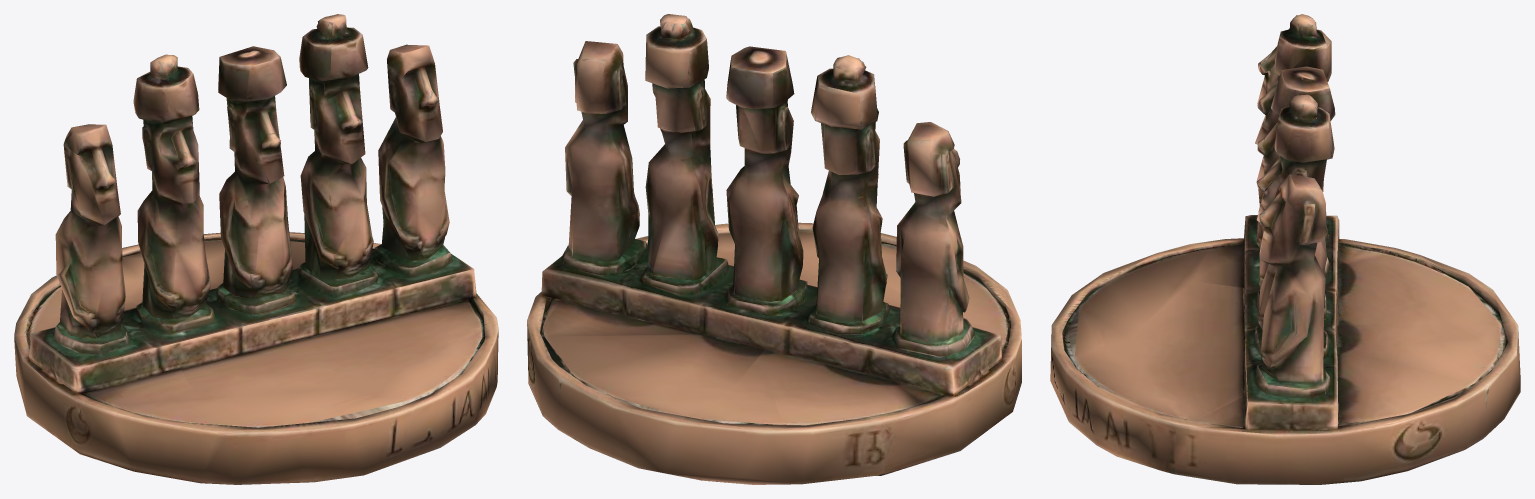
File: easter_island.glb
3 renders of one model, left to right at view 1: azimuth 30°, elevation 25°; view 2: azimuth 150°, elevation 25°; view 3: azimuth 270°, elevation 25°, orthographic. The views are drawn at different scales.
Parts seen in each view (by area): view 1: Mesh_0; view 2: Mesh_0; view 3: Mesh_0.
Boxes of the visible parts, x1=… form: Mesh_0: x1=14, y1=14, x2=498, y2=484; Mesh_0: x1=527, y1=14, x2=1021, y2=484; Mesh_0: x1=1050, y1=14, x2=1520, y2=484.
Size of the model in its own units: 1.89 by 1.49 by 1.9.
1 material, 1 textured.
